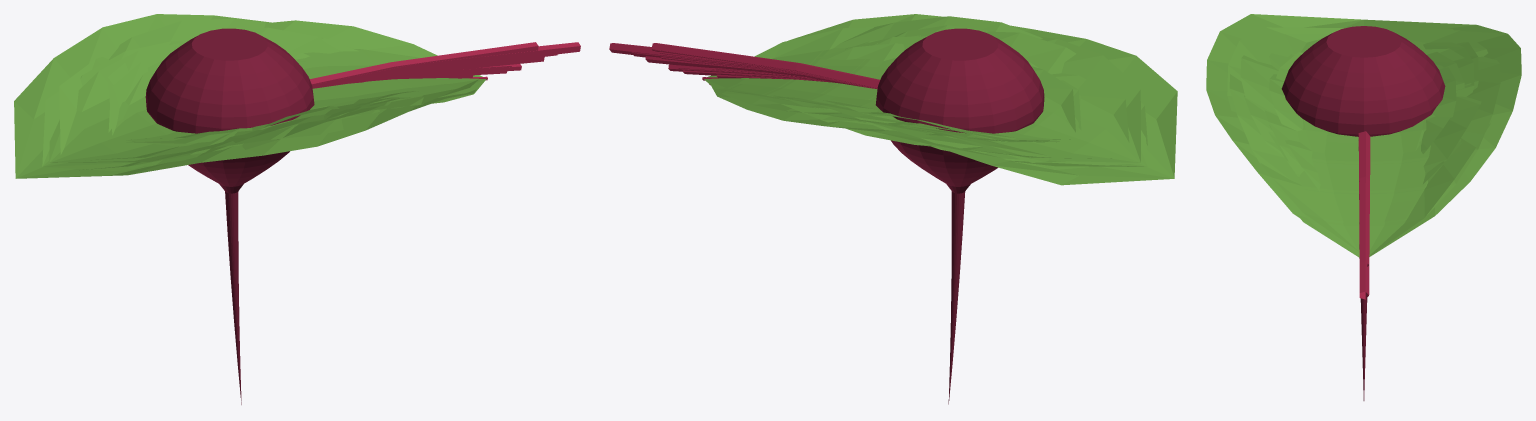
The model's file is beetroot_harvest_v19.articulated.glb.
The picture shows the model from 3 angles, left to right: view 1: azimuth 30°, elevation 25°; view 2: azimuth 150°, elevation 25°; view 3: azimuth 270°, elevation 25°; orthographic projection.
Visible parts, largest first — view 1: root, leaf07_link2, leaf03_link2, leaf05_link2, leaf08_link2, leaf04_link2, leaf01_link2, leaf03_link0, leaf09_link2, leaf00_link0, leaf00_link2, leaf06_link2 (+2 smaller); view 2: root, leaf07_link2, leaf03_link2, leaf05_link2, leaf01_link2, leaf08_link2, leaf04_link2, leaf00_link0, leaf09_link2, leaf00_link2, leaf03_link0, leaf06_link2 (+1 smaller); view 3: root, leaf07_link2, leaf03_link2, leaf05_link2, leaf08_link2, leaf01_link2, leaf04_link2, leaf00_link0, leaf02_link2, leaf09_link2, leaf00_link2, leaf03_link0 (+1 smaller).
Part boxes in pixels (box(x1,y1,x2,y2)): root: box(145, 28, 314, 404); leaf07_link2: box(49, 18, 478, 162); leaf03_link2: box(14, 14, 476, 178); leaf05_link2: box(59, 20, 487, 166); leaf08_link2: box(42, 27, 379, 170); leaf04_link2: box(76, 43, 394, 160); leaf01_link2: box(117, 60, 418, 139); leaf03_link0: box(312, 42, 580, 88); leaf09_link2: box(108, 50, 410, 143); leaf00_link0: box(310, 42, 538, 84); leaf00_link2: box(108, 37, 390, 146); leaf06_link2: box(79, 41, 407, 170); root: box(875, 28, 1044, 404); leaf07_link2: box(714, 27, 1140, 169); leaf03_link2: box(709, 14, 1177, 185); leaf05_link2: box(702, 16, 1125, 158); leaf01_link2: box(816, 43, 1075, 142); leaf08_link2: box(773, 31, 1147, 166); leaf04_link2: box(871, 43, 1129, 161); leaf00_link0: box(651, 43, 879, 88); leaf09_link2: box(774, 36, 1081, 141); leaf00_link2: box(773, 25, 1080, 141); leaf03_link0: box(609, 43, 877, 89); leaf06_link2: box(858, 35, 1147, 169); root: box(1281, 26, 1445, 400); leaf07_link2: box(1227, 27, 1500, 251); leaf03_link2: box(1206, 14, 1521, 256); leaf05_link2: box(1229, 30, 1491, 257); leaf08_link2: box(1240, 27, 1481, 182); leaf01_link2: box(1276, 52, 1456, 191); leaf04_link2: box(1269, 34, 1474, 165); leaf00_link0: box(1358, 131, 1370, 266); leaf02_link2: box(1269, 74, 1450, 153); leaf09_link2: box(1264, 52, 1464, 176); leaf00_link2: box(1244, 48, 1464, 183); leaf03_link0: box(1358, 141, 1370, 299).
Size of the model in its own units: 0.2812 by 0.1742 by 0.1386.
Materials: 1 (1 with a texture image).
